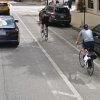Car: (35, 4, 76, 28)
